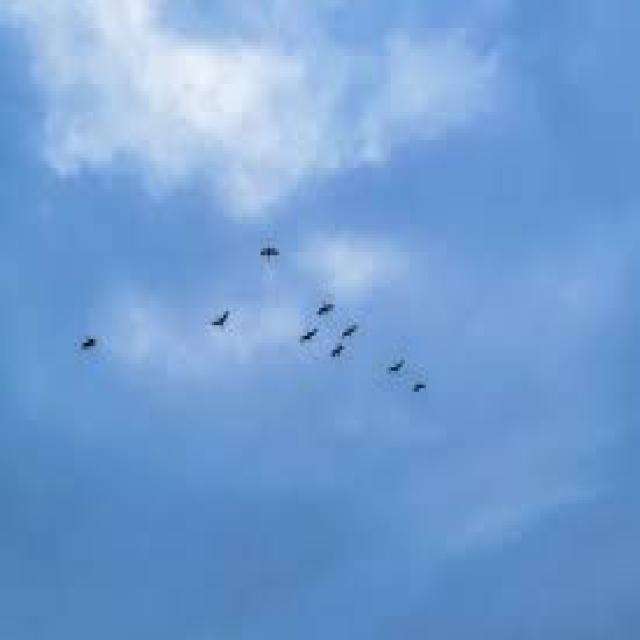bird: (206, 288, 239, 369), (72, 330, 114, 372), (382, 332, 414, 381), (412, 366, 437, 422), (244, 236, 282, 271), (290, 325, 324, 357), (316, 294, 336, 339), (327, 349, 348, 382), (340, 320, 368, 344)
